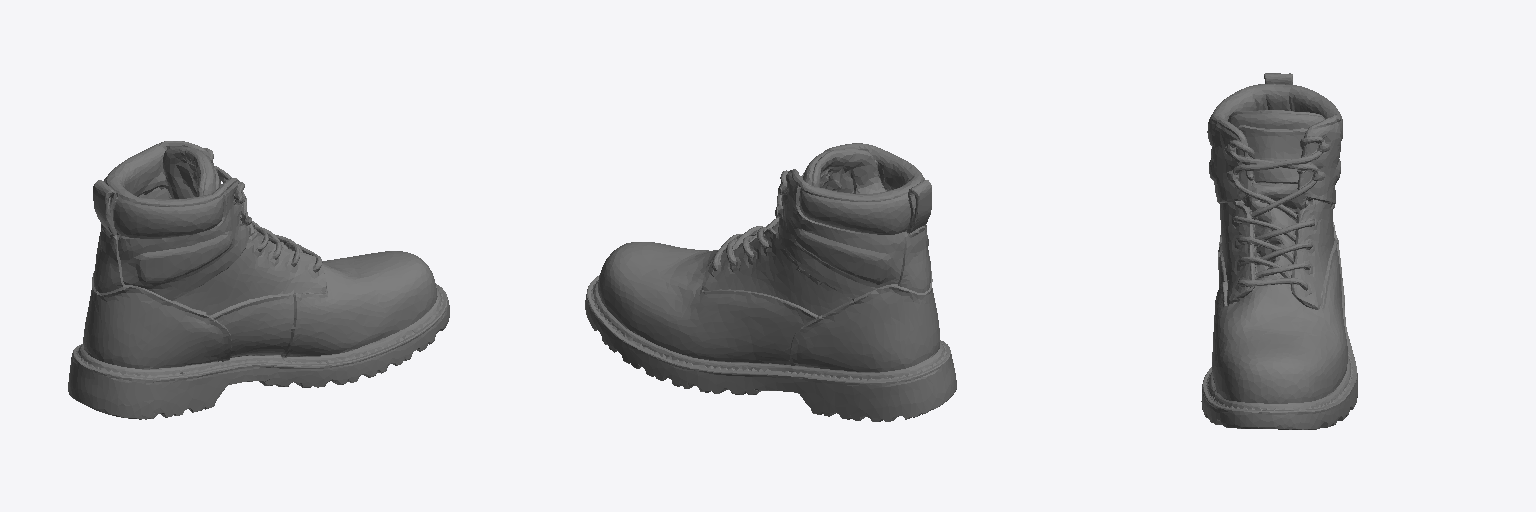
Rendered from sh_wolverineBoot2.obj.
3 renders of one model, left to right at view 1: azimuth 30°, elevation 25°; view 2: azimuth 150°, elevation 25°; view 3: azimuth 270°, elevation 25°, orthographic.
Visible parts, largest first — view 1: sh_wolverineBoot2; view 2: sh_wolverineBoot2; view 3: sh_wolverineBoot2.
Boxes of the visible parts, <box> form: sh_wolverineBoot2: <box>68,141,449,419</box>; sh_wolverineBoot2: <box>585,143,956,421</box>; sh_wolverineBoot2: <box>1201,73,1357,429</box>.
Size of the model in its own units: 0.3297 by 0.2046 by 0.1245.